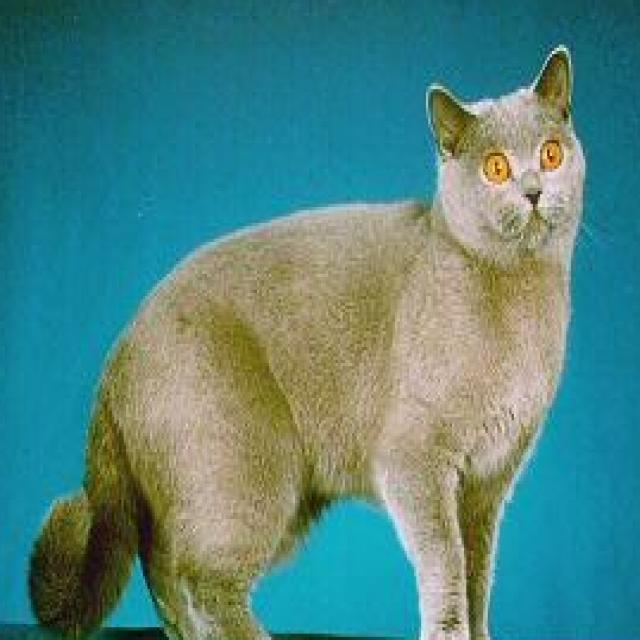British Shorthair: (24, 38, 590, 640)
